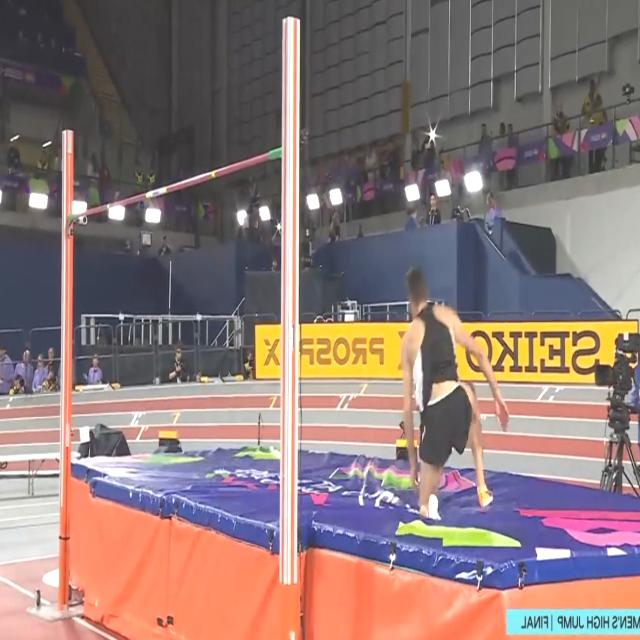land: (401, 269, 509, 520)
